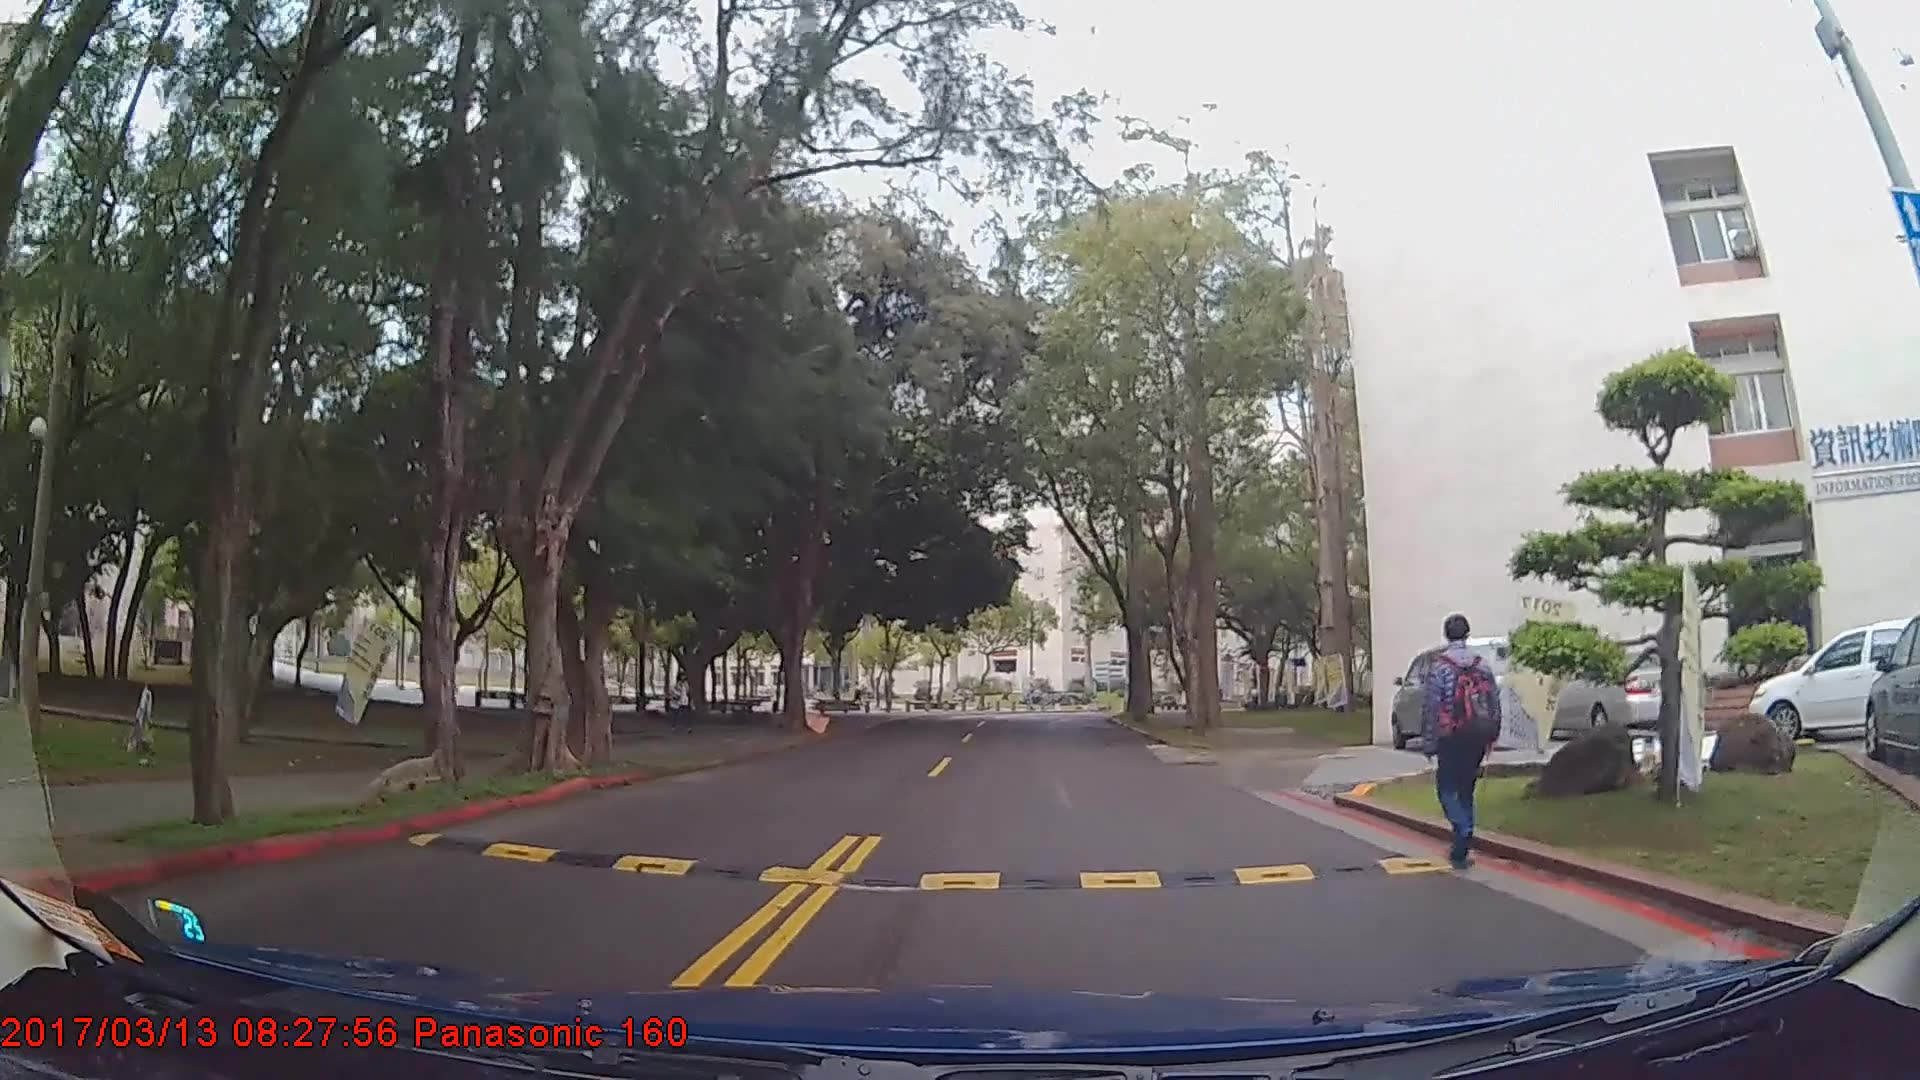pedestrian: (1422, 610, 1502, 871), (668, 667, 697, 733)
vehicle: (1743, 617, 1917, 744)
